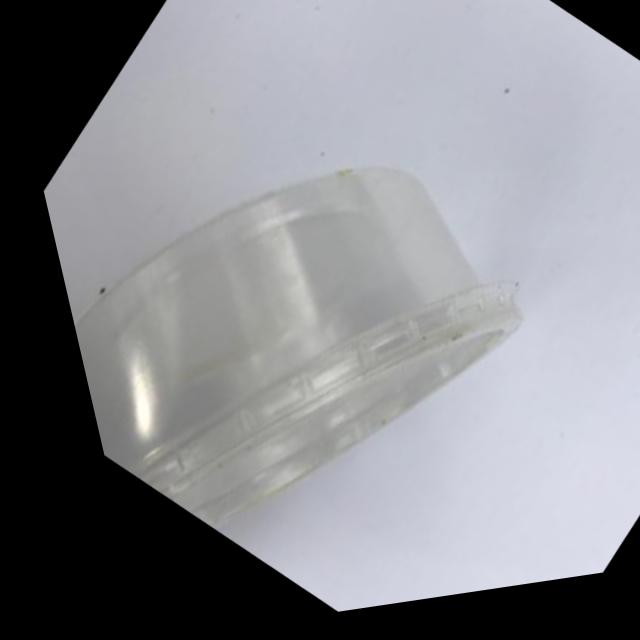plastic: (6, 0, 640, 640)
